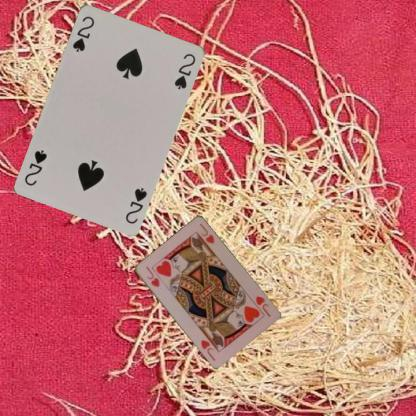2s: (122, 184, 148, 225), (70, 13, 96, 53)
Jh: (252, 294, 272, 318), (142, 264, 160, 288)
